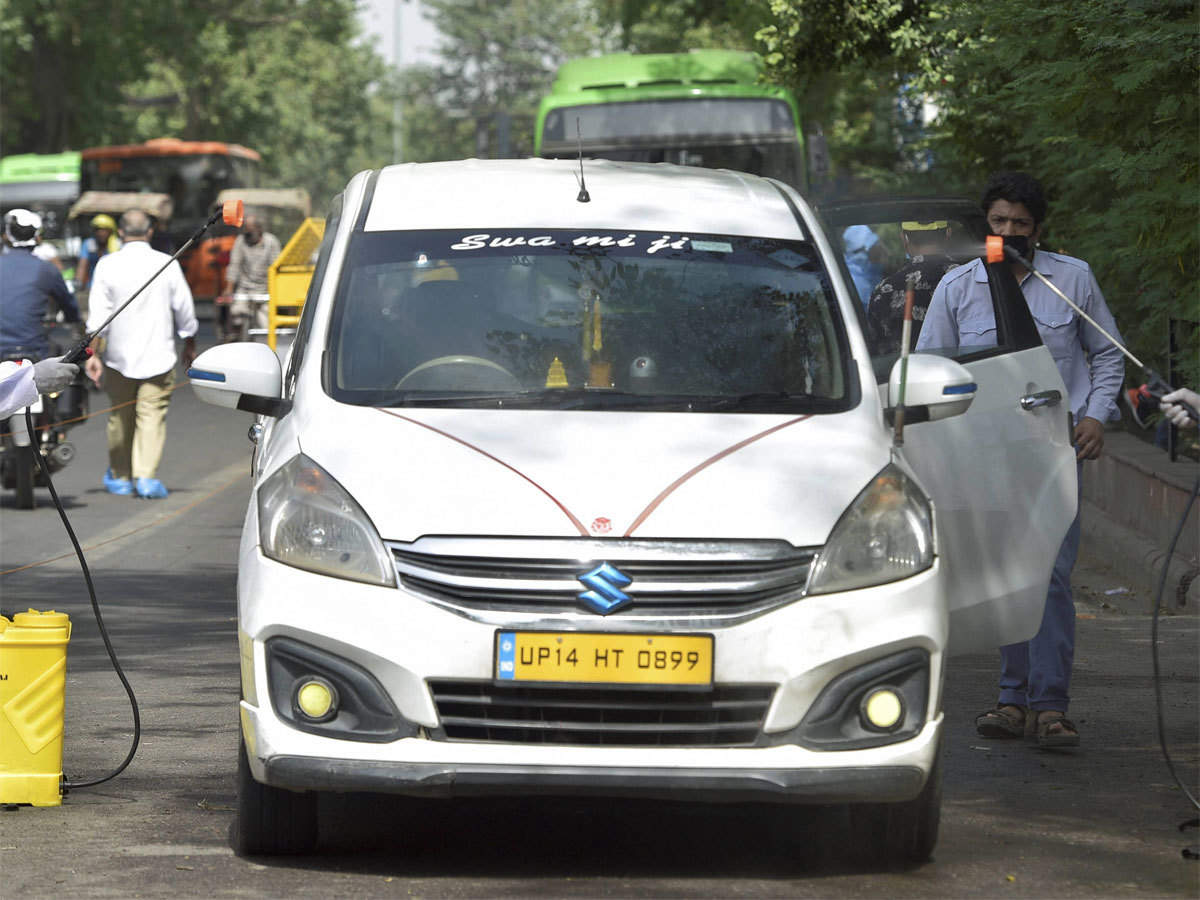numberplate: (491, 625, 722, 693)
